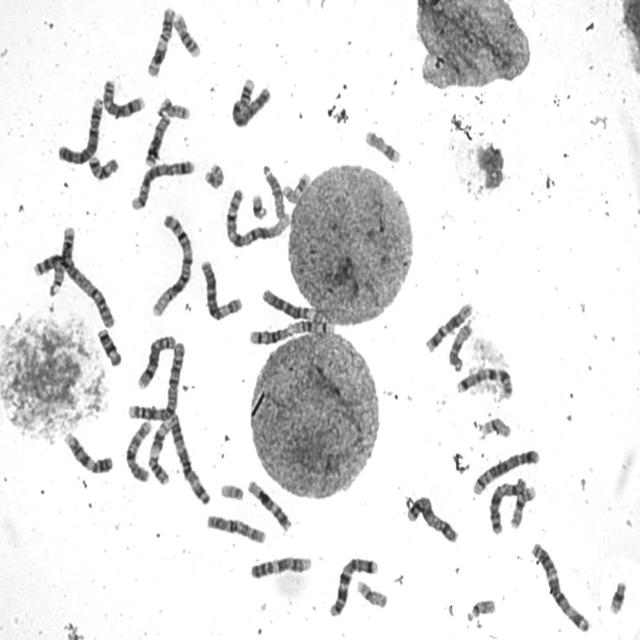A1: (148, 210, 196, 319), (223, 185, 293, 249)
A2: (31, 252, 118, 330), (126, 336, 186, 422)
A3: (529, 539, 593, 634), (165, 409, 213, 506)
B4: (54, 93, 104, 166), (229, 74, 273, 129)
B5: (128, 156, 197, 212), (470, 444, 542, 497)
C10: (204, 511, 268, 545), (123, 417, 154, 484)
C11: (144, 2, 177, 78), (146, 418, 173, 486)
C12: (423, 298, 475, 354), (244, 476, 294, 533)
C6: (198, 256, 245, 321), (260, 285, 318, 322)
C7: (327, 553, 380, 619), (454, 362, 515, 400)
C8: (135, 331, 177, 391), (100, 74, 147, 120)
C9: (62, 428, 114, 476), (247, 552, 314, 581)
D13: (142, 110, 172, 168), (33, 250, 67, 296)
D14: (247, 321, 295, 346), (60, 224, 78, 272)
D15: (259, 160, 289, 222), (446, 318, 474, 372)
E16: (171, 10, 202, 60), (508, 482, 538, 530)
E17: (362, 126, 403, 164), (280, 168, 313, 205)
E18: (95, 325, 123, 368), (86, 152, 121, 182)
F19: (354, 576, 390, 610), (478, 413, 513, 440)
F20: (156, 93, 192, 121), (202, 159, 226, 191)
G21: (607, 577, 628, 616), (249, 189, 270, 221)
G22: (464, 596, 497, 624), (218, 480, 245, 502)
X: (405, 492, 460, 546), (487, 474, 529, 536)
